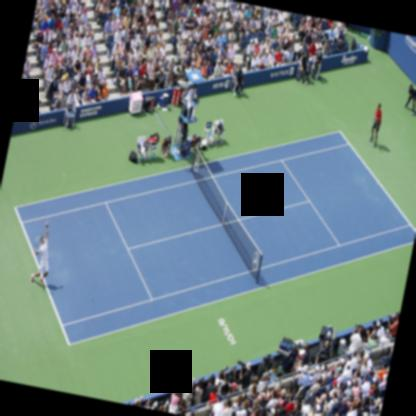backpack: (128, 150, 136, 161)
